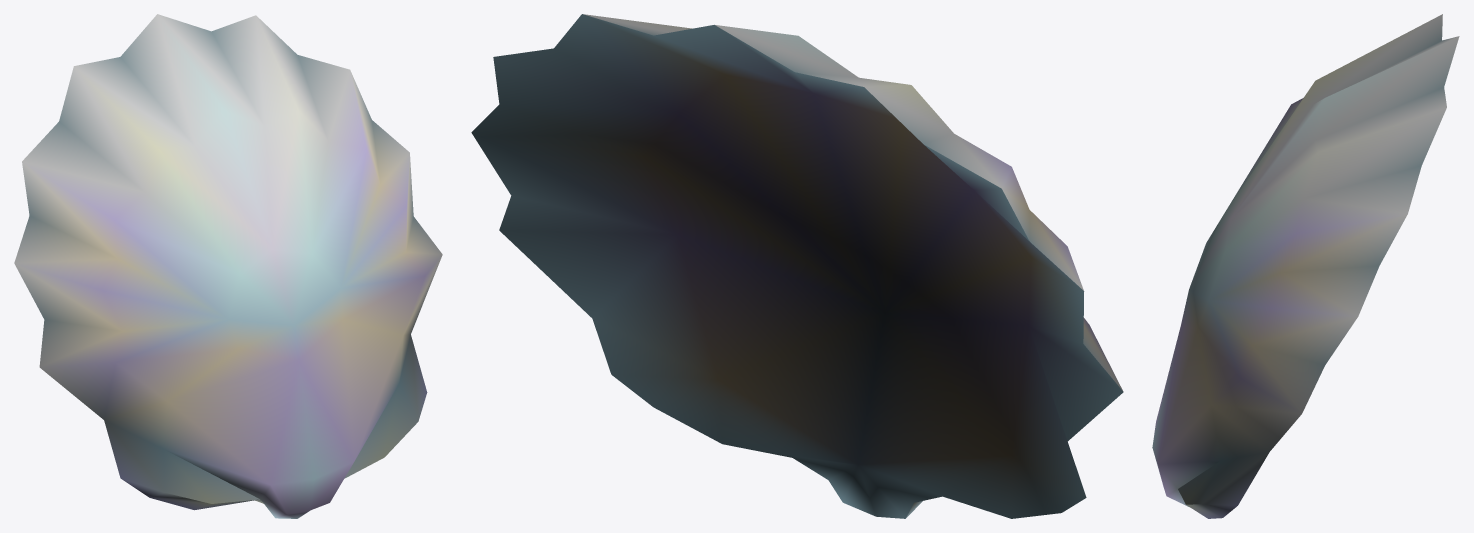
The model's file is hat_premium_ClamWings.glb.
The picture shows the model from 3 angles, left to right: view 1: azimuth 30°, elevation 25°; view 2: azimuth 150°, elevation 25°; view 3: azimuth 270°, elevation 25°; orthographic projection. The views are drawn at different scales.
Visible parts, largest first — view 1: hat_premium_ClamWings; view 2: hat_premium_ClamWings; view 3: hat_premium_ClamWings.
Boxes of the visible parts, left/top/right/bottom form: hat_premium_ClamWings: left=14, top=14, right=442, bottom=518; hat_premium_ClamWings: left=471, top=14, right=1123, bottom=518; hat_premium_ClamWings: left=1152, top=14, right=1459, bottom=518.
Bounding box in the file's own units: 0.6276 × 0.6163 × 0.3735.
